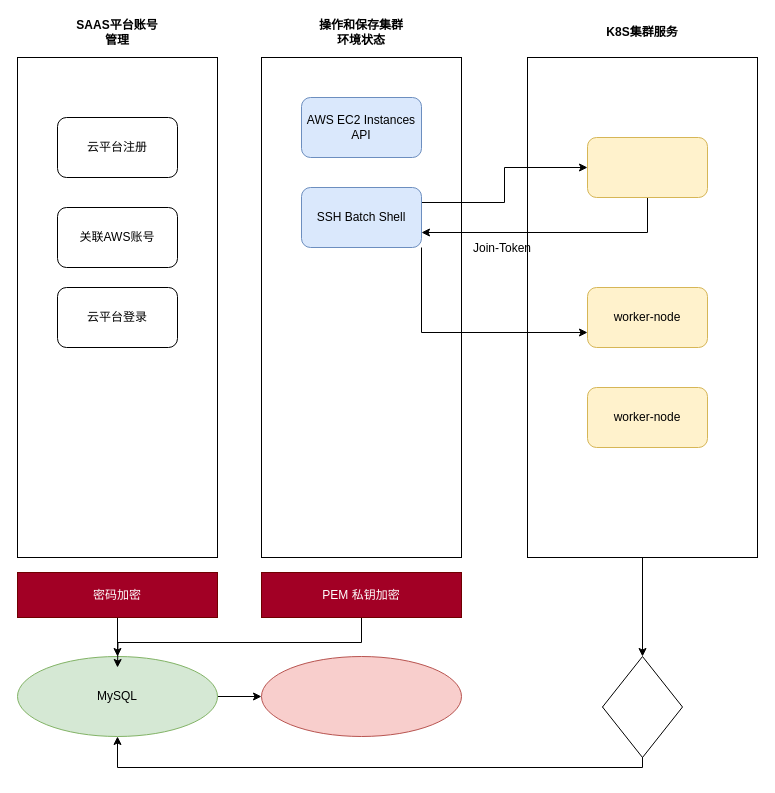
Some shapes in this 775 by 793 pixel diagram are drawn without their labels. Here are the shapes that lost their labels. From the top down, the centre of each, then its label:
At point (647, 167): "master-node".
At point (361, 696): "MEMORY: 用来存储PEM FILE".
At point (642, 707): "实例状态".
